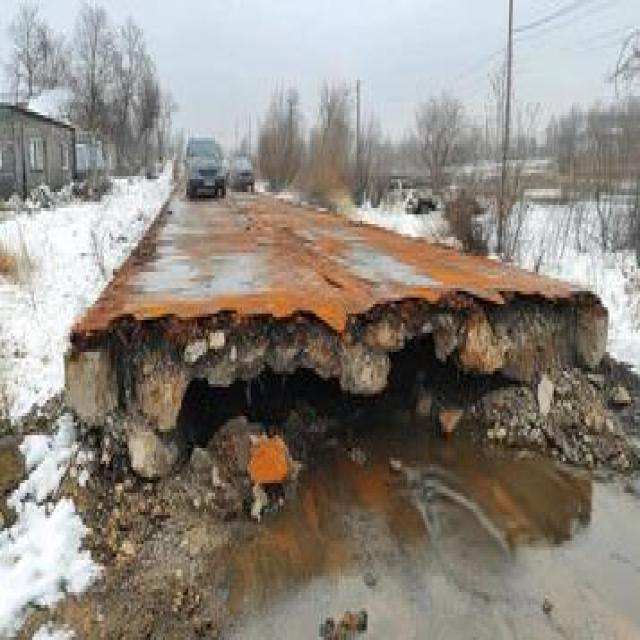road collapse: (22, 117, 640, 639)
